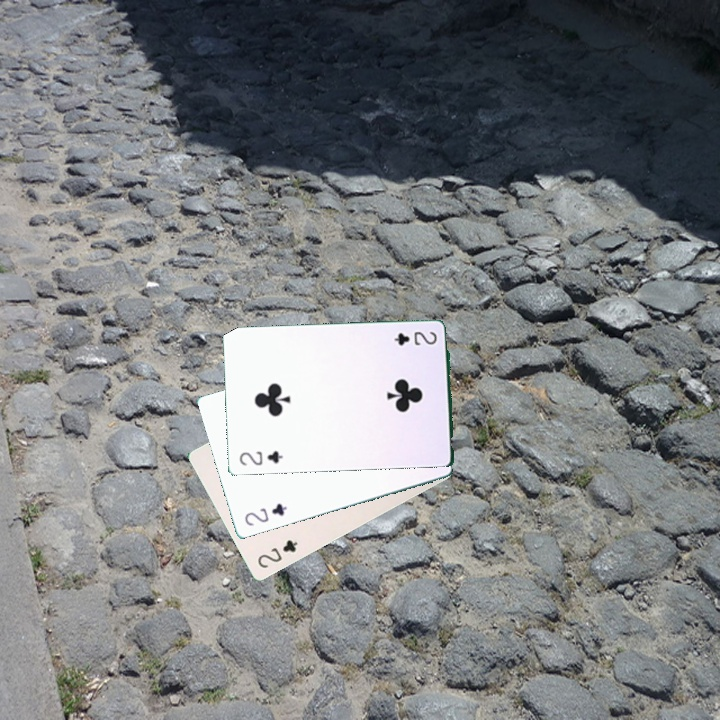2c: (253, 536, 300, 571), (241, 499, 289, 528), (235, 447, 285, 468), (390, 327, 439, 348)
